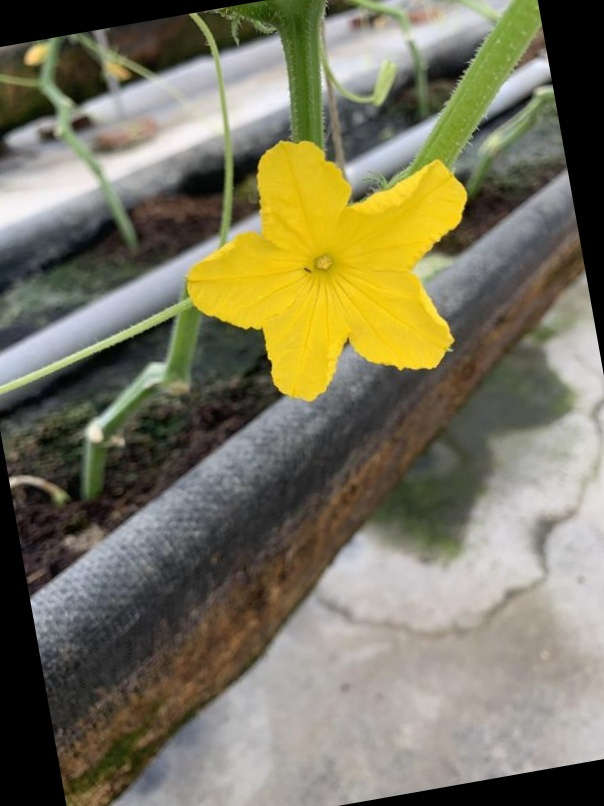flowering: (177, 120, 475, 402)
